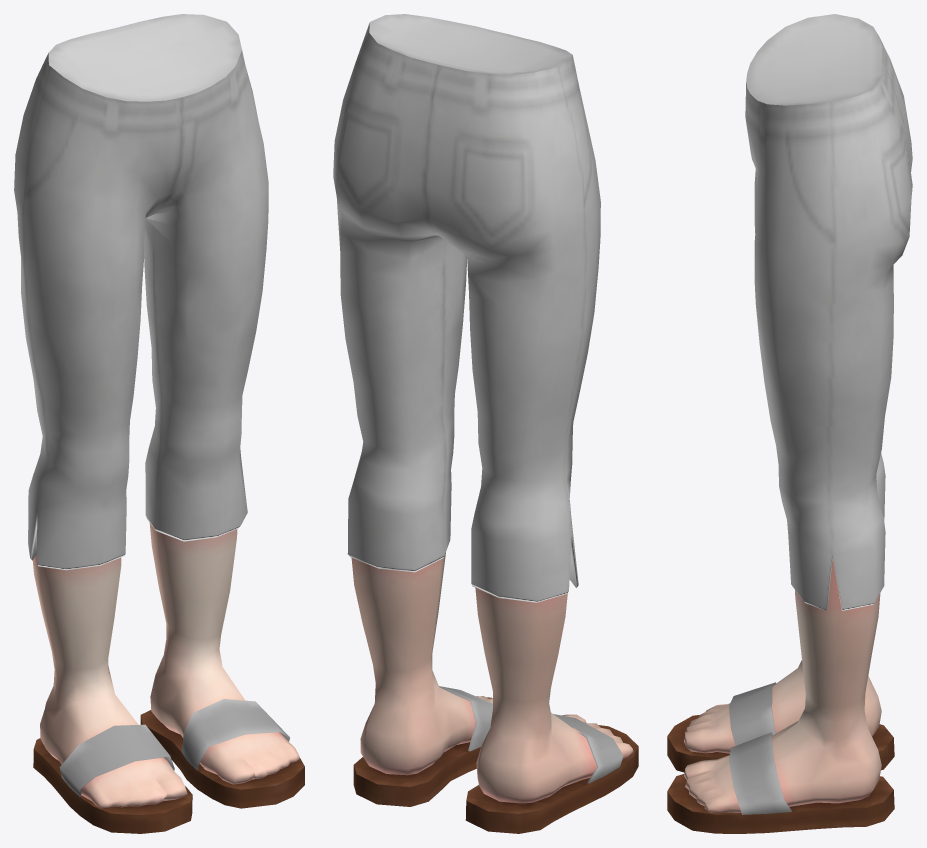
Rendered from tr0810_00_lwb01.gltf.
The picture shows the model from 3 angles, left to right: view 1: azimuth 30°, elevation 25°; view 2: azimuth 150°, elevation 25°; view 3: azimuth 270°, elevation 25°; orthographic projection. The views are drawn at different scales.
Visible parts, largest first — view 1: lwb01_lowerbody_mesh_shape:lowerbody01, lwb01_lowerskin_mesh_shape:lowerbody01_skin, lwb01_shoes_mesh_shape:lowerbody01; view 2: lwb01_lowerbody_mesh_shape:lowerbody01, lwb01_lowerskin_mesh_shape:lowerbody01_skin, lwb01_shoes_mesh_shape:lowerbody01; view 3: lwb01_lowerbody_mesh_shape:lowerbody01, lwb01_lowerskin_mesh_shape:lowerbody01_skin, lwb01_shoes_mesh_shape:lowerbody01.
Boxes of the visible parts, left/top/right/bottom form: lwb01_lowerbody_mesh_shape:lowerbody01: left=14, top=14, right=268, bottom=570; lwb01_lowerskin_mesh_shape:lowerbody01_skin: left=32, top=523, right=299, bottom=808; lwb01_shoes_mesh_shape:lowerbody01: left=33, top=699, right=304, bottom=833; lwb01_lowerbody_mesh_shape:lowerbody01: left=333, top=14, right=600, bottom=602; lwb01_lowerskin_mesh_shape:lowerbody01_skin: left=351, top=552, right=633, bottom=803; lwb01_shoes_mesh_shape:lowerbody01: left=353, top=686, right=638, bottom=833; lwb01_lowerbody_mesh_shape:lowerbody01: left=745, top=14, right=912, bottom=611; lwb01_lowerskin_mesh_shape:lowerbody01_skin: left=684, top=558, right=881, bottom=812; lwb01_shoes_mesh_shape:lowerbody01: left=667, top=682, right=894, bottom=833.
Size of what is drawn, in the model's own units: 0.3296 by 0.9742 by 0.2986.
Materials: 2 (2 with a texture image).
